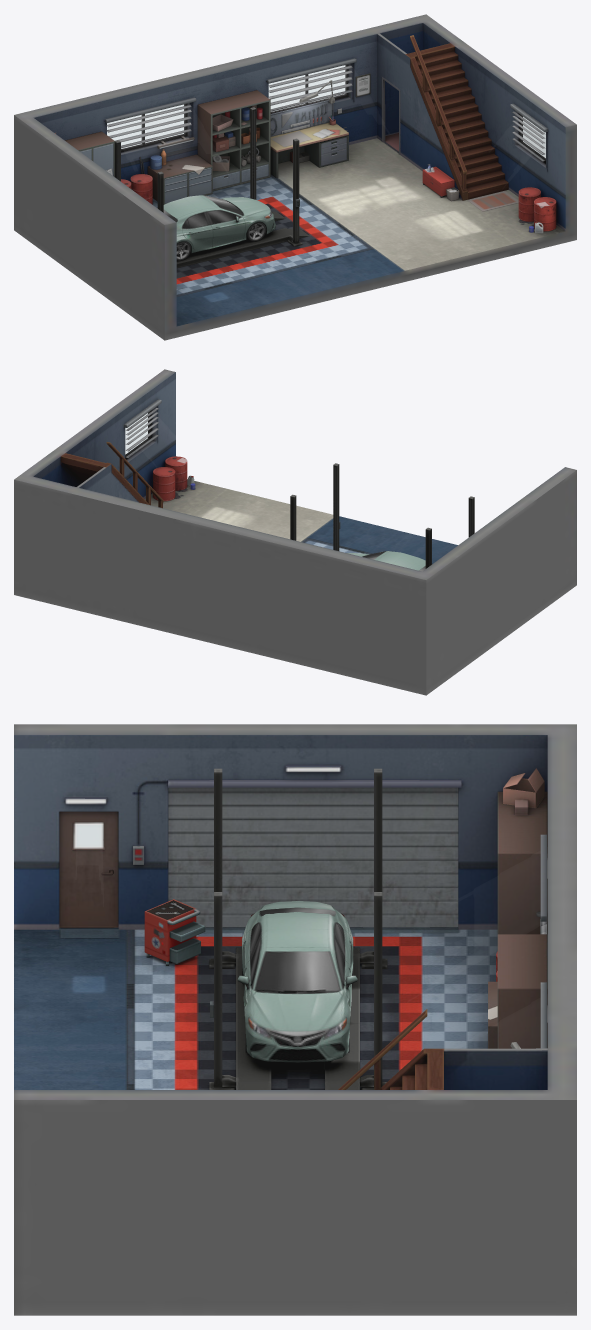
The model's file is garage.glb.
3 views of the same model, one above another, from view 1: azimuth 30°, elevation 25°; view 2: azimuth 150°, elevation 25°; view 3: azimuth 270°, elevation 25° (orthographic). The views are drawn at different scales.
Parts seen in each view (by area): view 1: room_low_Garage_mat_0, tool_cupboard_mesh_01_low_Garage_mat_0, tool_table_low_Garage_mat_0, Camry_body_low_Garage_mat_0, table_mesh_02_low_Garage_mat_0, car_rail_mesh_low_Garage_mat_0, blinds_mesh_02_low_Garage_mat_0, blinds_mesh_03_low_Garage_mat_0, tool_cupboard_mesh_03_low_Garage_mat_0, perila_stand_mesh_low_Garage_mat_0, car_stand_mesh_01_low_Garage_mat_0, barrel_mesh_02_low_Garage_mat_0 (+7 smaller); view 2: room_low_Garage_mat_0, Camry_body_low_Garage_mat_0, barrel_mesh_01_low_Garage_mat_0, blinds_mesh_01_low_Garage_mat_0, car_stand_mesh_01_low_Garage_mat_0, perila_stand_mesh_low_Garage_mat_0, barrel_mesh_02_low_Garage_mat_0; view 3: room_low_Garage_mat_0, Camry_body_low_Garage_mat_0, tool_cupboard_mesh_03_low_Garage_mat_0, tool_cupboard_mesh_01_low_Garage_mat_0, car_rail_mesh_low_Garage_mat_0, tool_table_mesh_low_Garage_mat_0, gate_thingie_low_Garage_mat_0, car_stand_mesh_01_low_Garage_mat_0, car_stand_mesh_04_low_Garage_mat_0, car_stand_mesh_03_low_Garage_mat_0, car_stand_mesh_02_low_Garage_mat_0, box_mesh_01_low_Garage_mat_0 (+1 smaller).
Part boxes in pixels (x1=…): room_low_Garage_mat_0: x1=14, y1=14, x2=576, y2=340; tool_cupboard_mesh_01_low_Garage_mat_0: x1=197, y1=90, x2=270, y2=191; tool_table_low_Garage_mat_0: x1=270, y1=80, x2=348, y2=178; Camry_body_low_Garage_mat_0: x1=157, y1=195, x2=275, y2=253; table_mesh_02_low_Garage_mat_0: x1=147, y1=154, x2=212, y2=204; car_rail_mesh_low_Garage_mat_0: x1=176, y1=211, x2=309, y2=268; blinds_mesh_02_low_Garage_mat_0: x1=268, y1=65, x2=352, y2=111; blinds_mesh_03_low_Garage_mat_0: x1=106, y1=105, x2=191, y2=148; tool_cupboard_mesh_03_low_Garage_mat_0: x1=65, y1=131, x2=114, y2=176; perila_stand_mesh_low_Garage_mat_0: x1=410, y1=35, x2=466, y2=190; car_stand_mesh_01_low_Garage_mat_0: x1=287, y1=138, x2=302, y2=246; barrel_mesh_02_low_Garage_mat_0: x1=534, y1=197, x2=556, y2=231; room_low_Garage_mat_0: x1=14, y1=369, x2=576, y2=695; Camry_body_low_Garage_mat_0: x1=347, y1=551, x2=432, y2=571; barrel_mesh_01_low_Garage_mat_0: x1=153, y1=467, x2=175, y2=501; blinds_mesh_01_low_Garage_mat_0: x1=126, y1=408, x2=158, y2=457; car_stand_mesh_01_low_Garage_mat_0: x1=333, y1=463, x2=339, y2=550; perila_stand_mesh_low_Garage_mat_0: x1=106, y1=442, x2=163, y2=508; barrel_mesh_02_low_Garage_mat_0: x1=165, y1=456, x2=187, y2=490; room_low_Garage_mat_0: x1=14, y1=724, x2=576, y2=1315; Camry_body_low_Garage_mat_0: x1=237, y1=901, x2=357, y2=1062; tool_cupboard_mesh_03_low_Garage_mat_0: x1=497, y1=791, x2=547, y2=934; tool_cupboard_mesh_01_low_Garage_mat_0: x1=497, y1=934, x2=547, y2=1048; car_rail_mesh_low_Garage_mat_0: x1=222, y1=947, x2=373, y2=1089; tool_table_mesh_low_Garage_mat_0: x1=144, y1=899, x2=205, y2=965; gate_thingie_low_Garage_mat_0: x1=168, y1=780, x2=461, y2=787; car_stand_mesh_01_low_Garage_mat_0: x1=209, y1=892, x2=234, y2=1089; car_stand_mesh_04_low_Garage_mat_0: x1=361, y1=892, x2=386, y2=1089; car_stand_mesh_03_low_Garage_mat_0: x1=361, y1=768, x2=387, y2=968; car_stand_mesh_02_low_Garage_mat_0: x1=209, y1=768, x2=234, y2=968; box_mesh_01_low_Garage_mat_0: x1=503, y1=768, x2=544, y2=808.
Size of the model in its own units: 9.46 by 3 by 5.99.
Materials: 2 (2 with a texture image).
